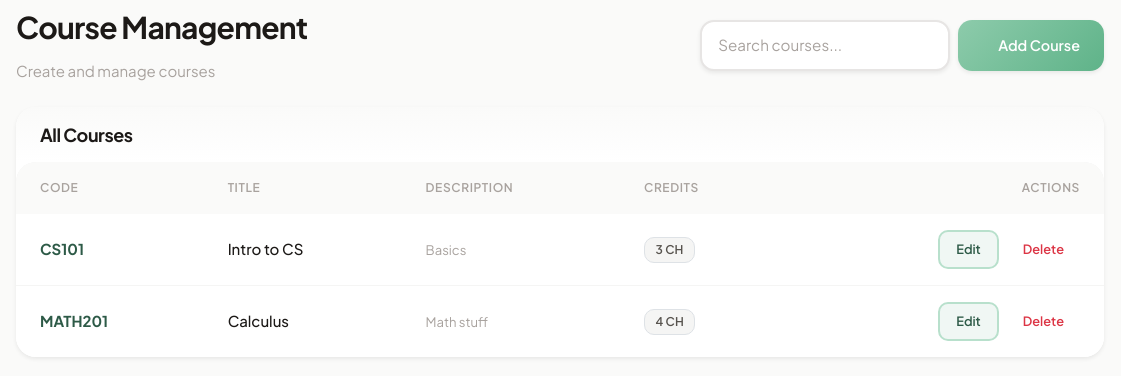
Test: CoursesPage › filters courses by search query
Expected: the text "CS101" is shown, [16,214,208,285]
// Type 'Math' into search
In the field with placeholder "Search courses...": (825, 46) [700,20,950,71], type "Math"
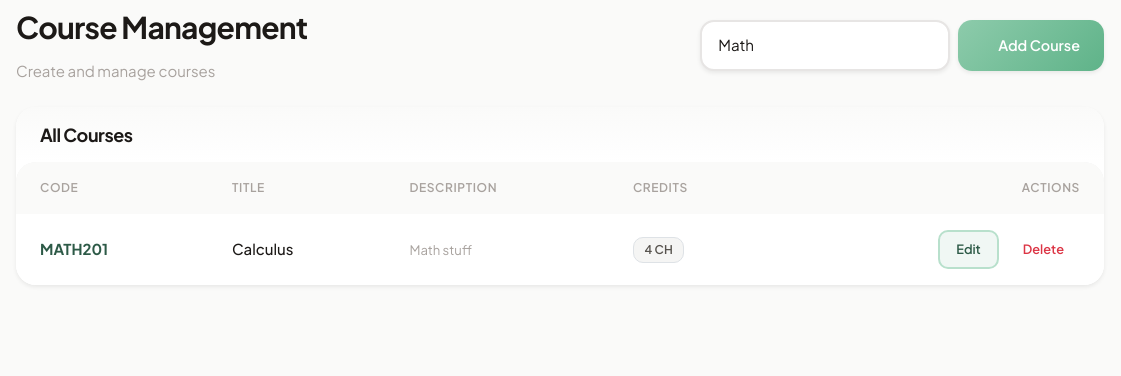
Expected: the text "MATH201" is shown, [16,214,212,285]
Expected: the text "CS101" is gone
